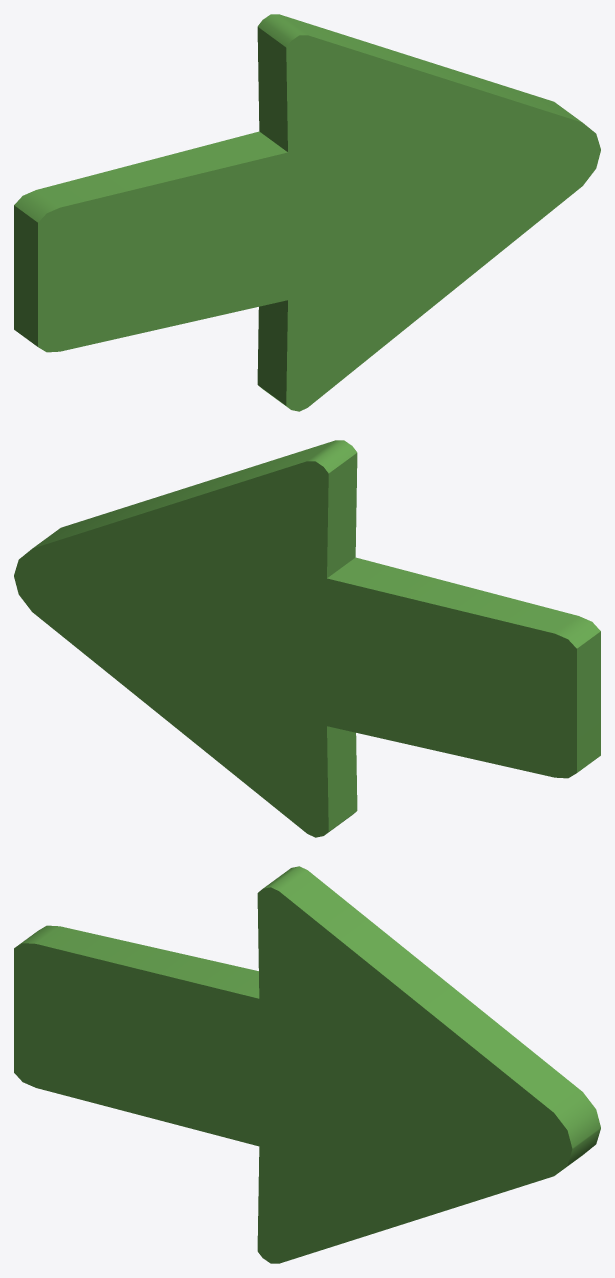
The model's file is Direction Arrow_1.fbx.
The picture shows the model from 3 angles, top to bottom: view 1: azimuth 30°, elevation 25°; view 2: azimuth 150°, elevation 25°; view 3: azimuth 330°, elevation 25°; orthographic projection.
Parts seen in each view (by area): view 1: Direction Arrow_1; view 2: Direction Arrow_1; view 3: Direction Arrow_1.
Boxes of the visible parts, x1,y1,x2,y2 form: Direction Arrow_1: [14, 14, 600, 411]; Direction Arrow_1: [14, 440, 600, 837]; Direction Arrow_1: [14, 866, 600, 1263].
Size of the model in its own units: 0.3673 by 0.2357 by 0.0326.
